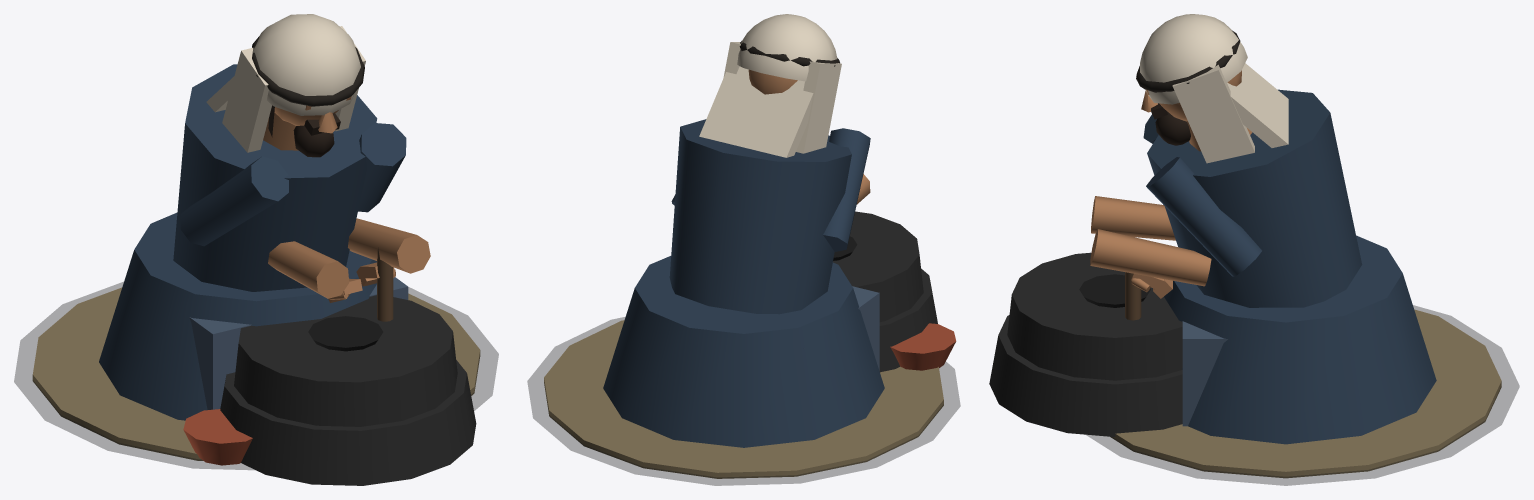
The model's file is actor-grinder-97c78817.glb.
The picture shows the model from 3 angles, left to right: view 1: azimuth 30°, elevation 25°; view 2: azimuth 150°, elevation 25°; view 3: azimuth 270°, elevation 25°; orthographic projection. The views are drawn at different scales.
Parts seen in each view (by area): view 1: actor-grinder, head-complex; view 2: actor-grinder, head-complex; view 3: actor-grinder, head-complex, hand-r.
Boxes of the visible parts, box(x1,y1,x2,y2) form: actor-grinder: box(14, 64, 498, 485); head-complex: box(206, 14, 365, 157); actor-grinder: box(527, 119, 960, 485); head-complex: box(699, 14, 841, 157); actor-grinder: box(989, 89, 1519, 485); head-complex: box(1136, 14, 1288, 163); hand-r: box(1131, 274, 1172, 298).
Bounding box in the file's own units: 1.04 × 0.9044 × 1.18.
